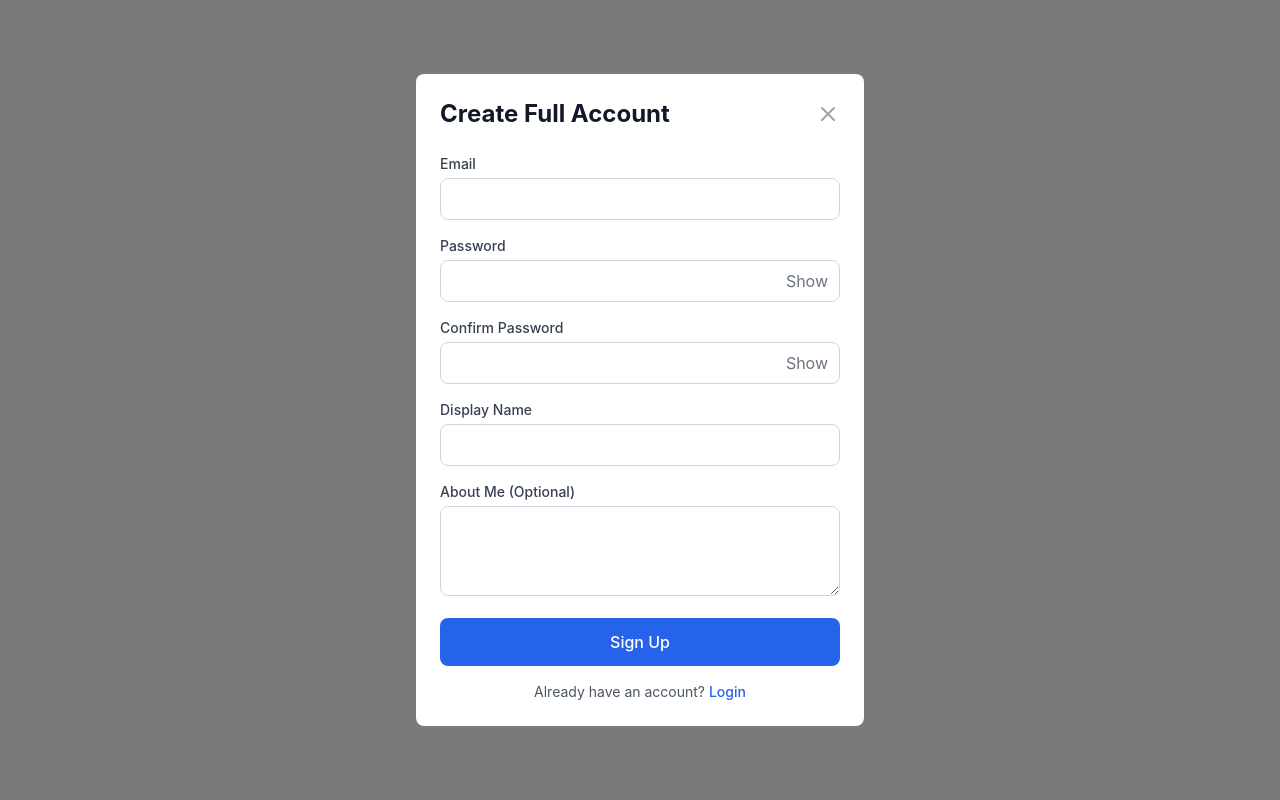
Test: SignupModal › Form Validation › should show error when passwords do not match
Type "Password123!" into the password field labelled "Password".
click(640, 281); type("Password123!")  # box [440,260,840,302]
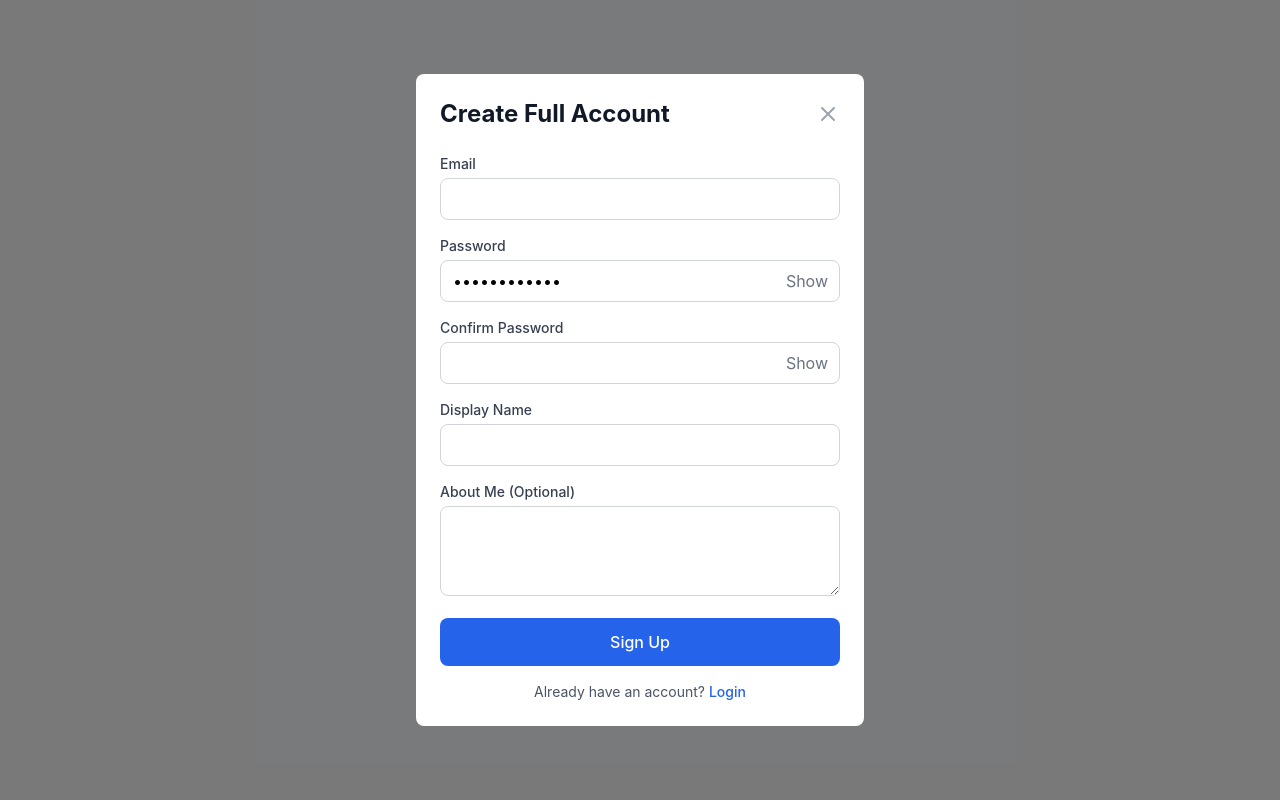
Type "Different123!" into the password field labelled "Confirm Password".
click(640, 363); type("Different123!")  # box [440,342,840,384]
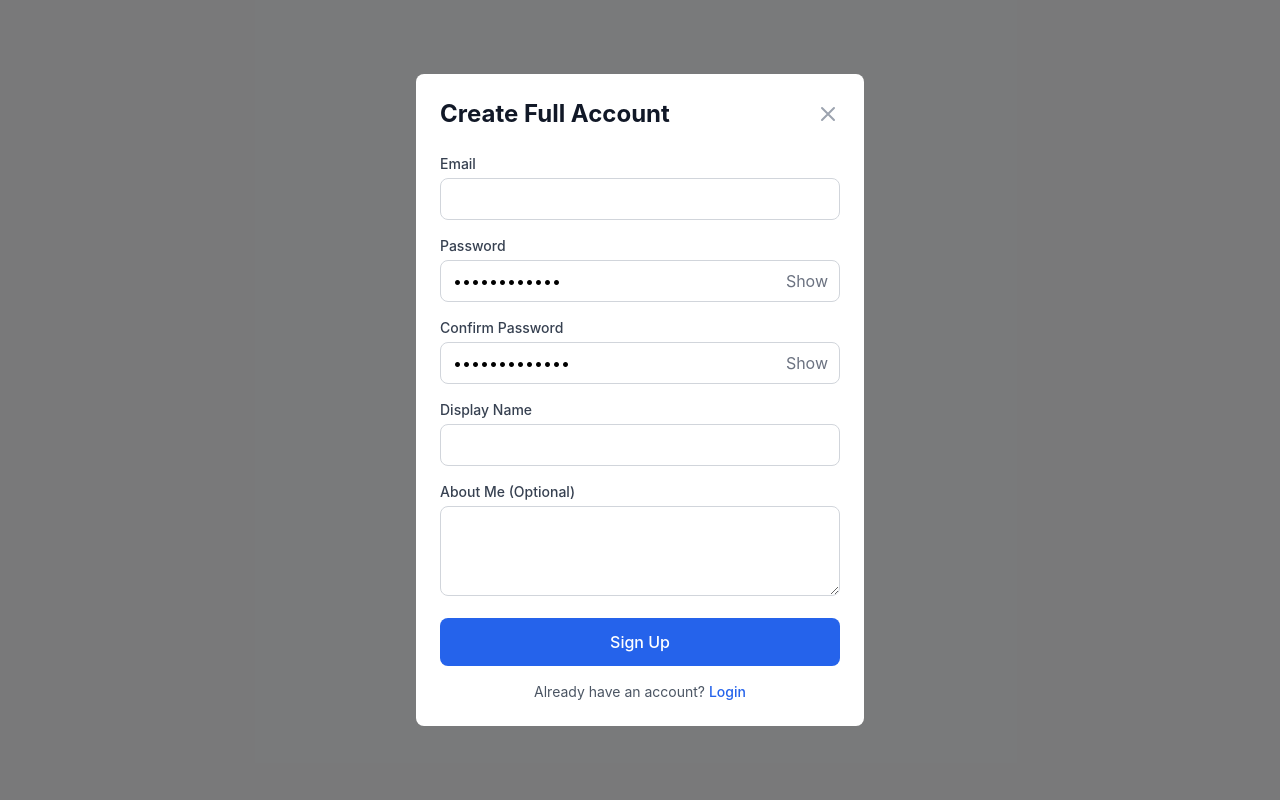
Leave the password field labelled "Confirm Password", box [440,342,840,384]
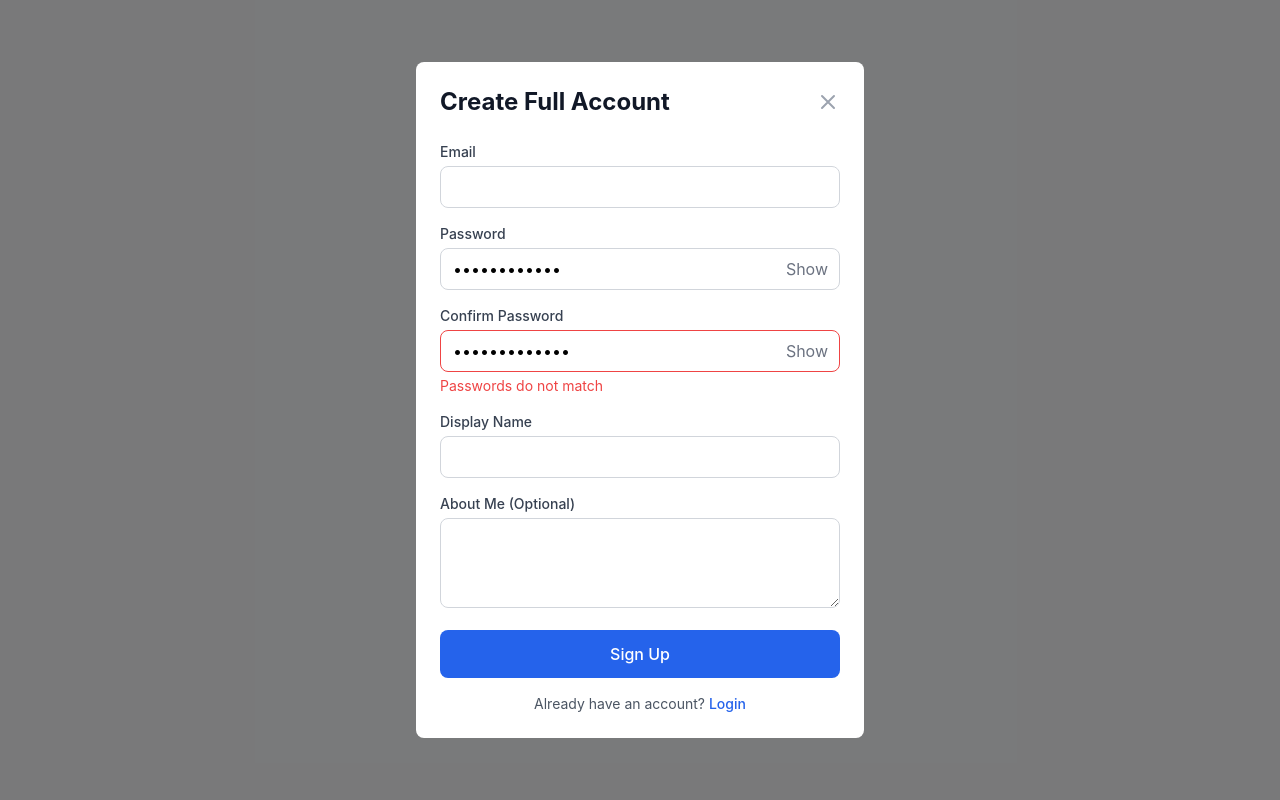
Check: the text "Passwords do not match" is shown, box [440,377,603,394]
